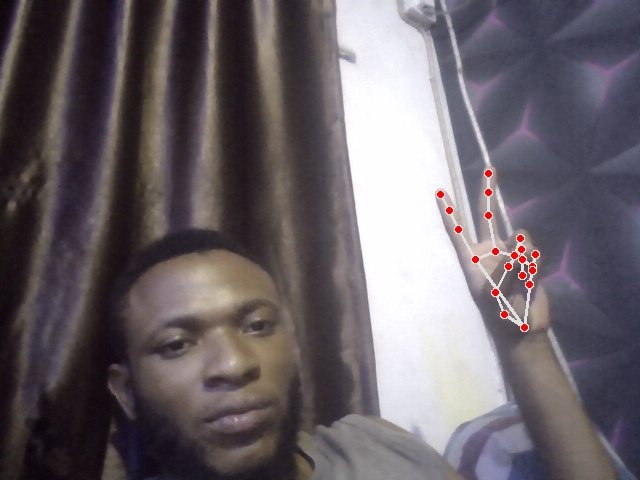peace: (434, 166, 553, 337)
